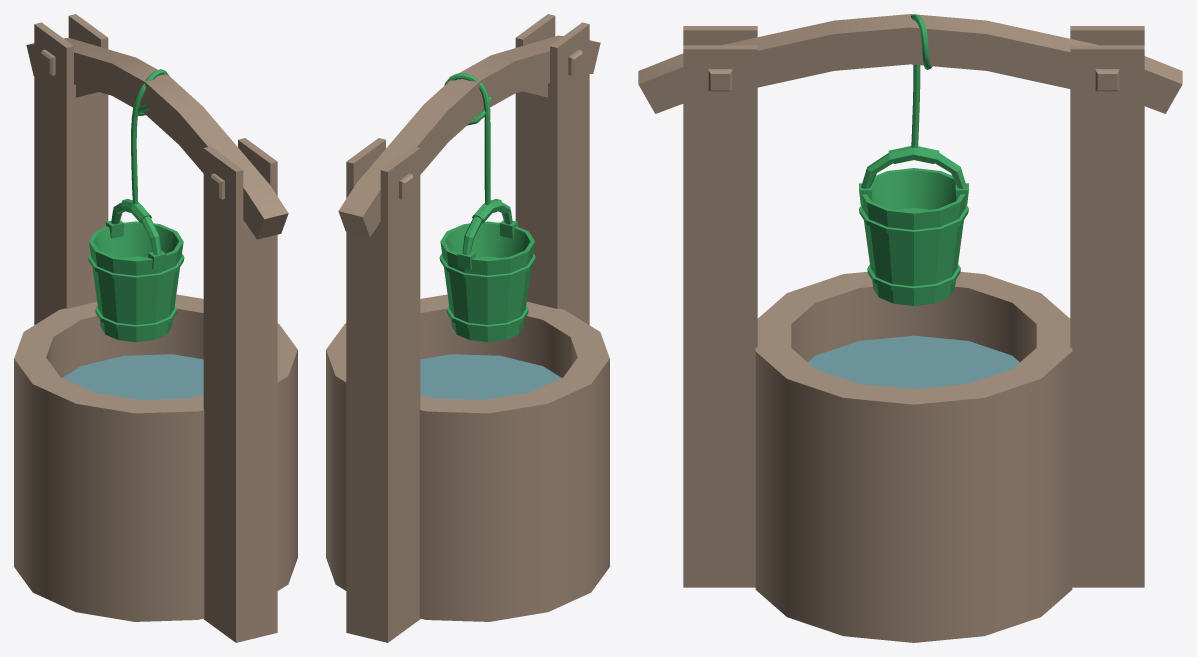
The model's file is PozoIdle.fbx.
3 views of the same model, side by side, from view 1: azimuth 30°, elevation 25°; view 2: azimuth 150°, elevation 25°; view 3: azimuth 270°, elevation 25° (orthographic). The views are drawn at different scales.
Visible parts, largest first — view 1: pCylinder3, polySurface7, polySurface8, pCube2, polySurface5, pCylinder5, pCylinder4, pTorus1, polySurface9; view 2: pCylinder3, polySurface8, polySurface7, pCube2, polySurface5, pCylinder5, pCylinder4, pTorus1, polySurface9; view 3: pCylinder3, polySurface8, polySurface7, pCube2, polySurface5, pCylinder5, pTorus1, pCylinder4.
Part boxes in pixels (<box>): pCylinder3: <box>14,294,297,621</box>; polySurface7: <box>203,138,277,642</box>; polySurface8: <box>34,14,108,324</box>; pCube2: <box>26,38,288,239</box>; polySurface5: <box>88,221,184,342</box>; pCylinder5: <box>62,354,203,399</box>; pCylinder4: <box>131,69,169,204</box>; pTorus1: <box>111,199,161,255</box>; polySurface9: <box>106,220,166,269</box>; pCylinder3: <box>326,294,609,621</box>; polySurface8: <box>346,138,420,642</box>; polySurface7: <box>515,14,589,324</box>; pCube2: <box>338,35,600,237</box>; polySurface5: <box>439,221,535,342</box>; pCylinder5: <box>420,354,561,399</box>; pCylinder4: <box>444,73,491,204</box>; pTorus1: <box>462,199,512,255</box>; polySurface9: <box>457,220,517,269</box>; pCylinder3: <box>755,271,1072,642</box>; polySurface8: <box>1070,26,1144,587</box>; polySurface7: <box>683,26,757,587</box>; pCube2: <box>638,14,1182,113</box>; polySurface5: <box>859,168,968,305</box>; pCylinder5: <box>808,335,1019,388</box>; pTorus1: <box>861,146,966,188</box>; pCylinder4: <box>911,14,932,147</box>.
Bounding box in the file's own units: 2 × 3.81 × 3.35.
